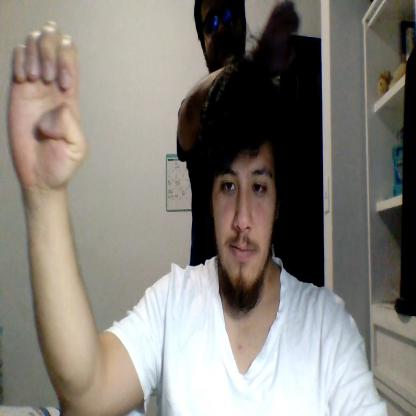E: (5, 20, 88, 188)
